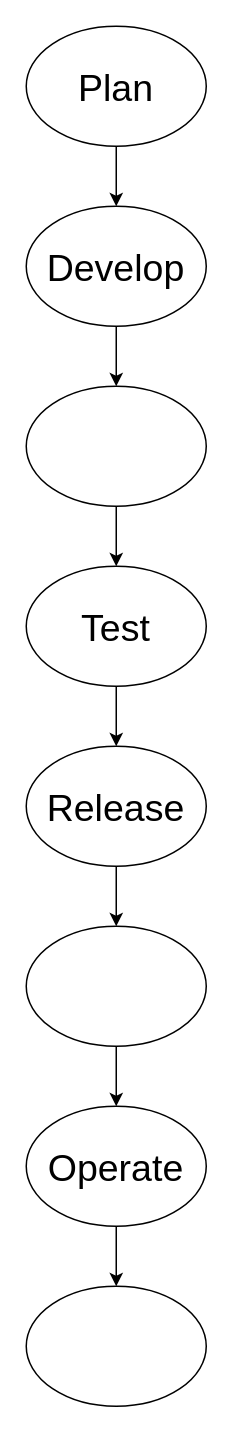
The diagram is 233 pixels wide and 1433 high, and some of its shapes have lost their labels. The centre of each missing label's shape, as x and y in pixels:
"Build" belongs at point (115, 445).
"Deploy" belongs at point (115, 985).
"Monitor" belongs at point (115, 1345).
